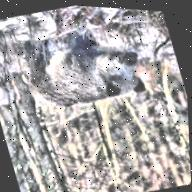boar: (12, 13, 150, 122)
